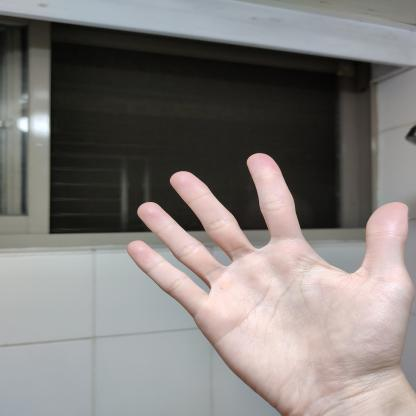bare_hand: (118, 141, 415, 415)
